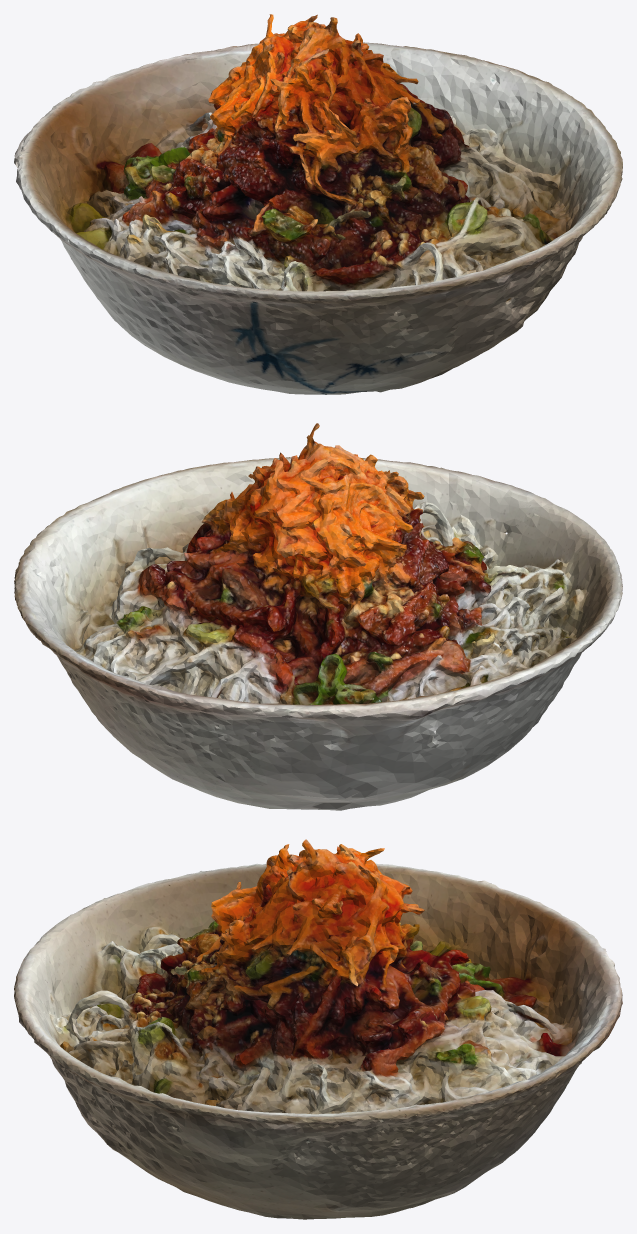
File: viet_food_web.glb
3 renders of one model, top to bottom at view 1: azimuth 30°, elevation 25°; view 2: azimuth 150°, elevation 25°; view 3: azimuth 270°, elevation 25°, orthographic.
Bounding box in the file's own units: 0.7722 × 0.441 × 0.7713.
Materials: 1 (1 with a texture image).
